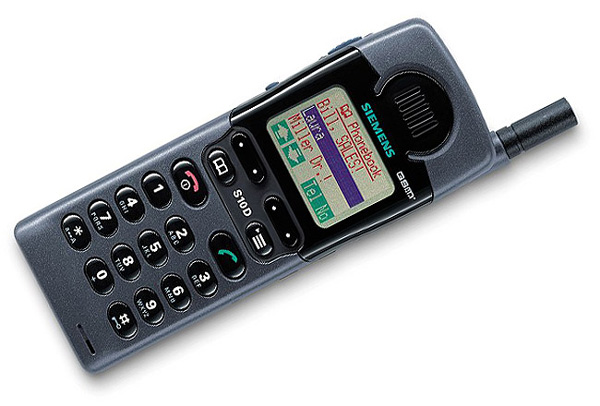Phone: (11, 14, 580, 378)
